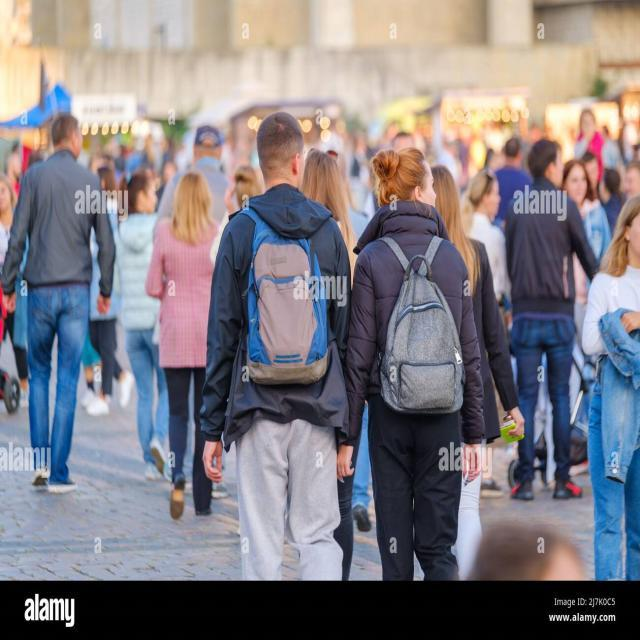Backpacks: (249, 220, 331, 387), (380, 262, 466, 416)
